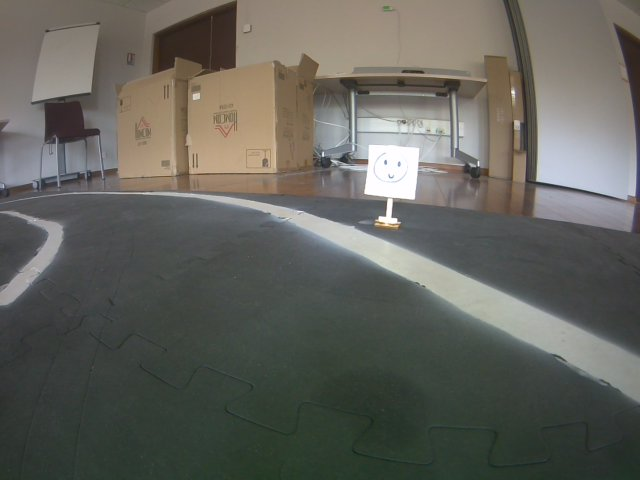Smiley: (361, 137, 419, 205)
